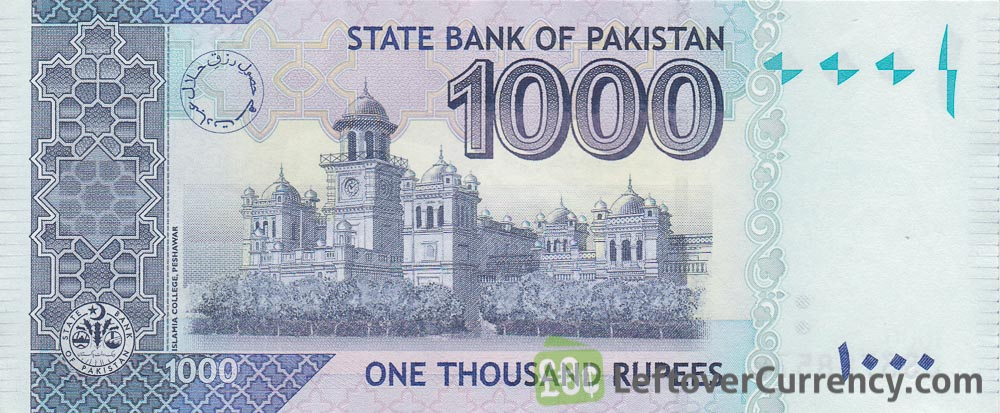1000 rupee: (12, 7, 987, 403)
